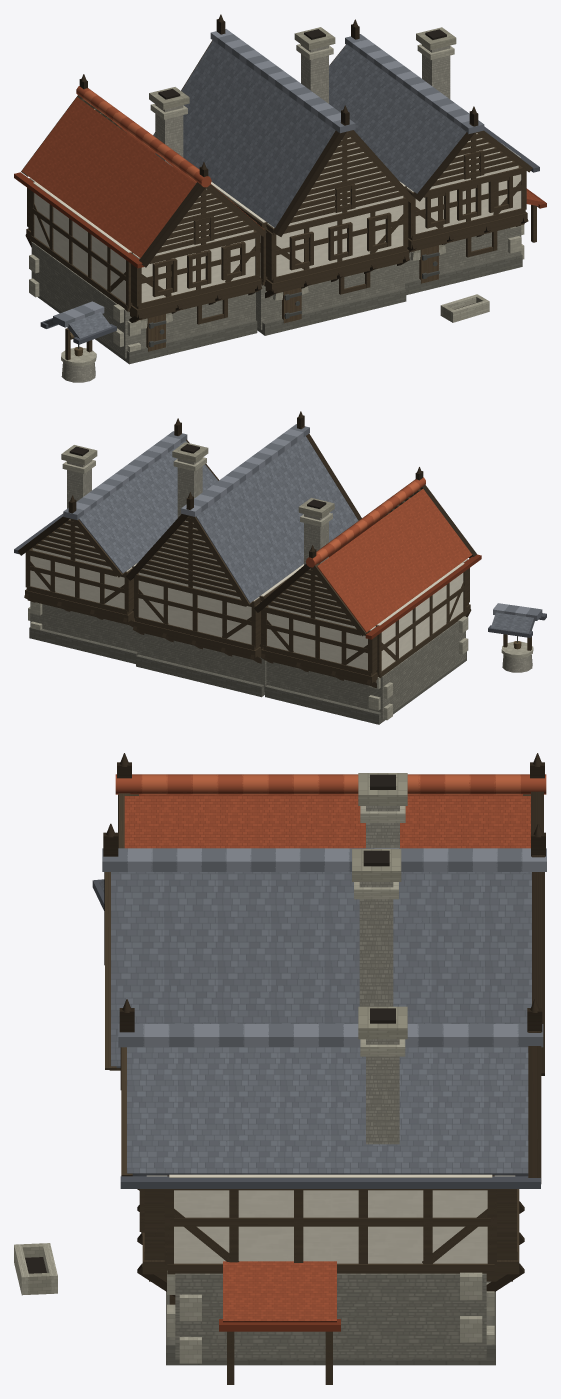
File: rat-6-built.glb
3 views of the same model, one above another, from view 1: azimuth 30°, elevation 25°; view 2: azimuth 150°, elevation 25°; view 3: azimuth 270°, elevation 25° (orthographic). The views are drawn at different scales.
Bounding box in the file's own units: 39.35 × 16.38 × 20.53.
44 materials, 35 textured.
